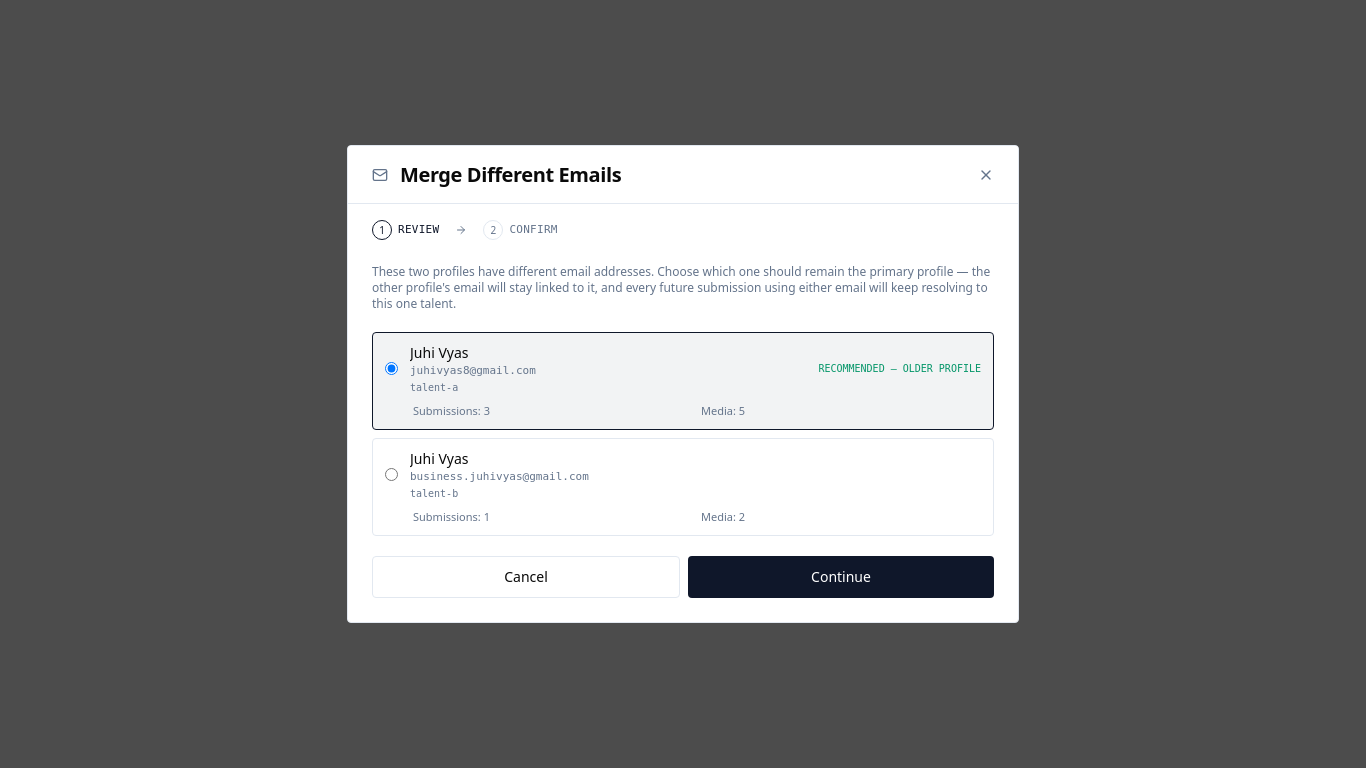
it: MergeEmailsModal — separate action from Merge Talents › loads the preview, shows both profiles' emails, and confirms the merge via /talents/merge-emails
Expected: the element with test id "merge-emails-step-review" is shown, [372,264,994,598]
Expected: the text "juhivyas8@gmail.com" is shown, [410,364,536,377]
Click the button with test id "merge-emails-continue-to-confirm".
click(841, 577)  # box [688,556,994,598]
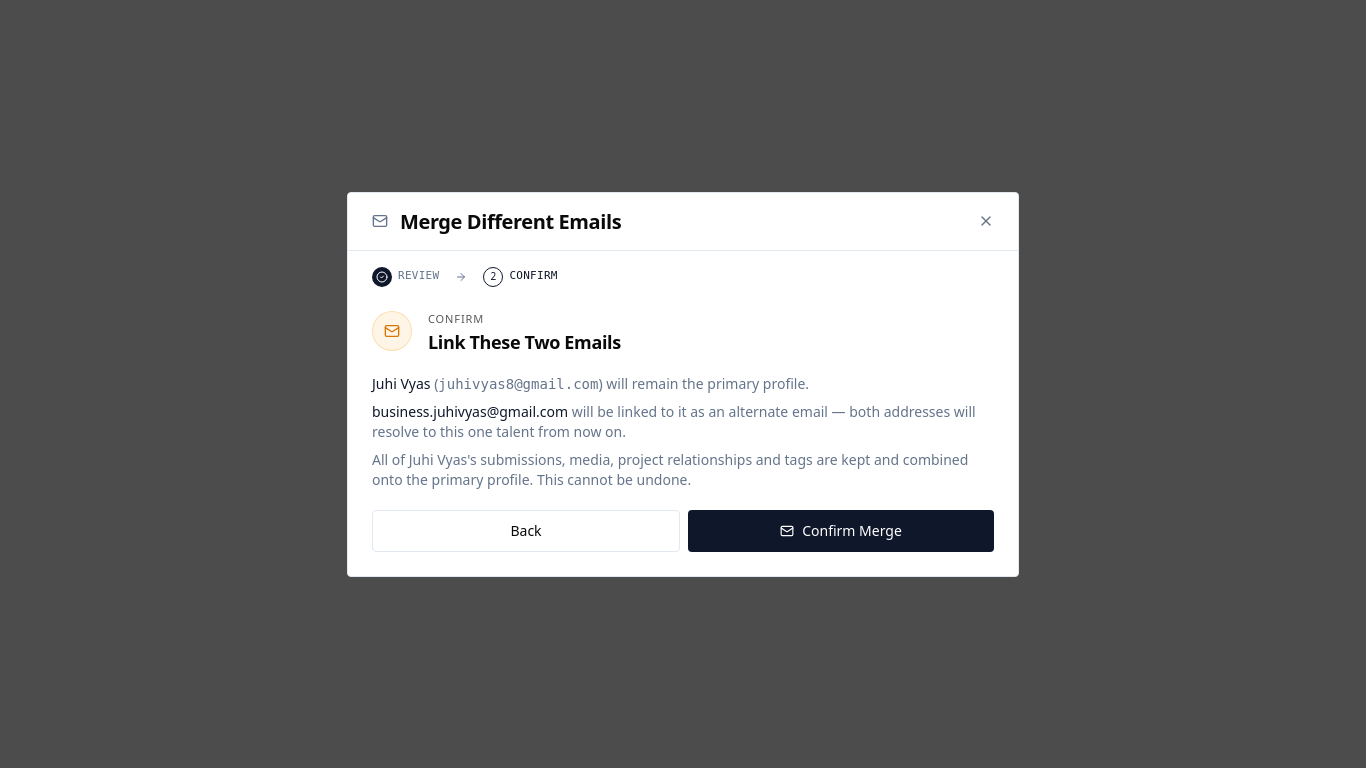
Expected: the text "business.juhivyas@gmail.com" is shown, [372,402,568,420]
Now the element with test id "merge-emails-step-confirm" is shown, box [372,310,994,552]
Click the button with test id "merge-emails-confirm-button".
click(841, 530)  # box [688,510,994,552]
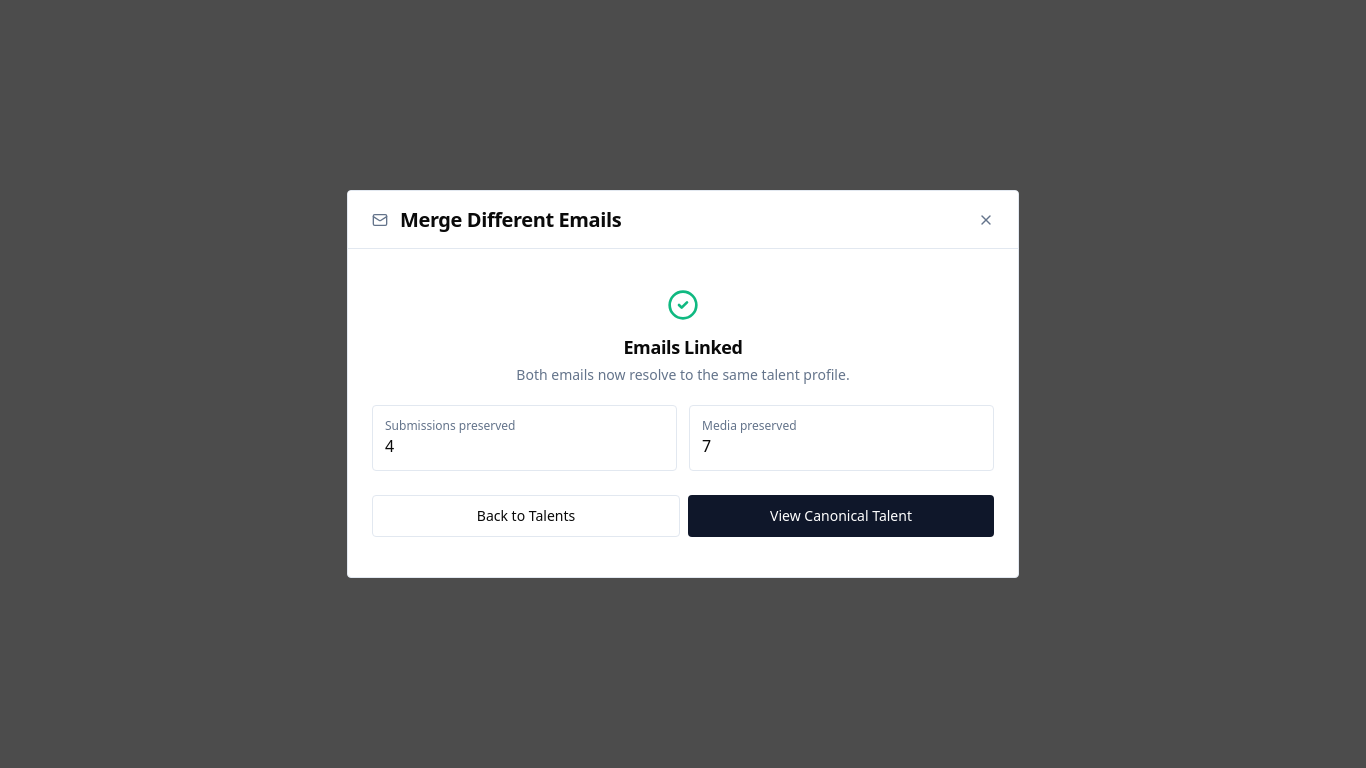
Now the element with test id "merge-emails-step-success" is shown, box [372,273,994,553]
